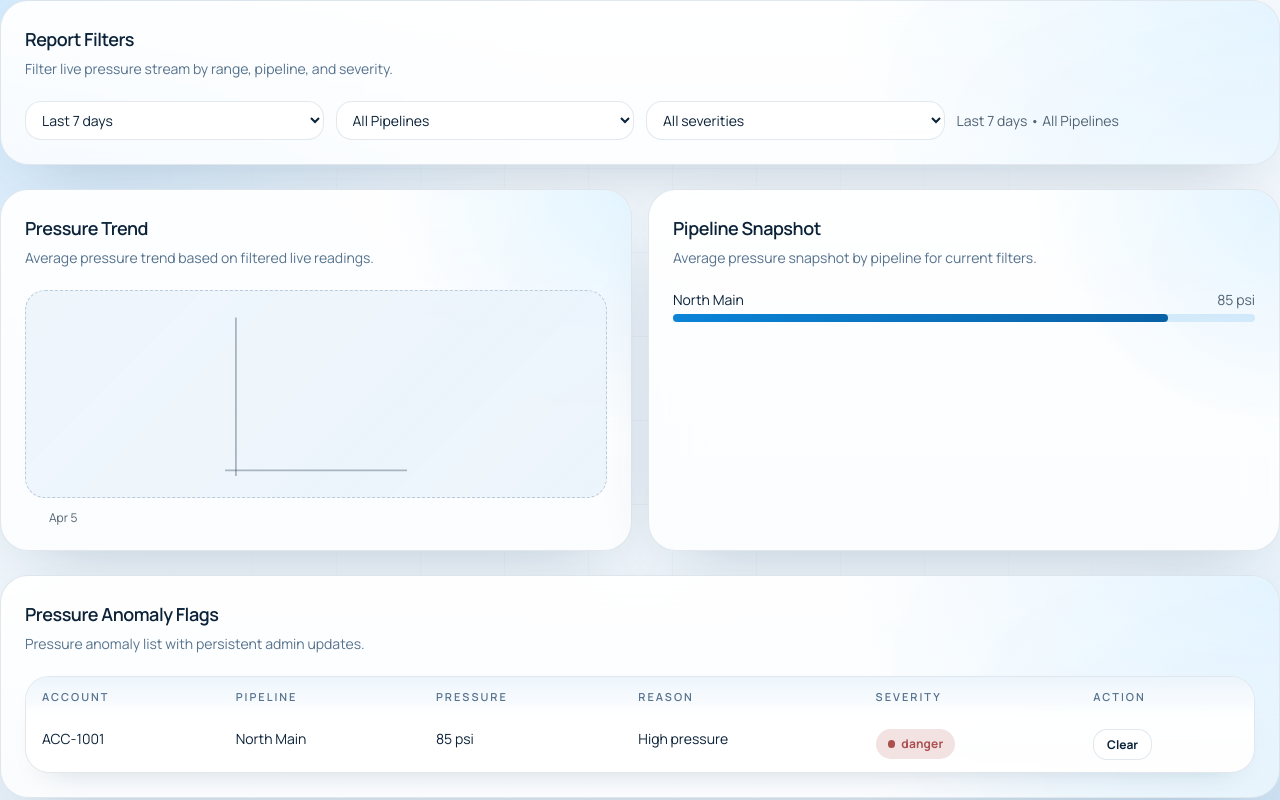
Scenario: ReportsDashboardClient › persists anomaly toggle through admin API
The width and height of the screenshot is (1280, 800).
Click the button "Clear" at (1123, 744), box top-left (1093, 729), bottom-right (1152, 760)
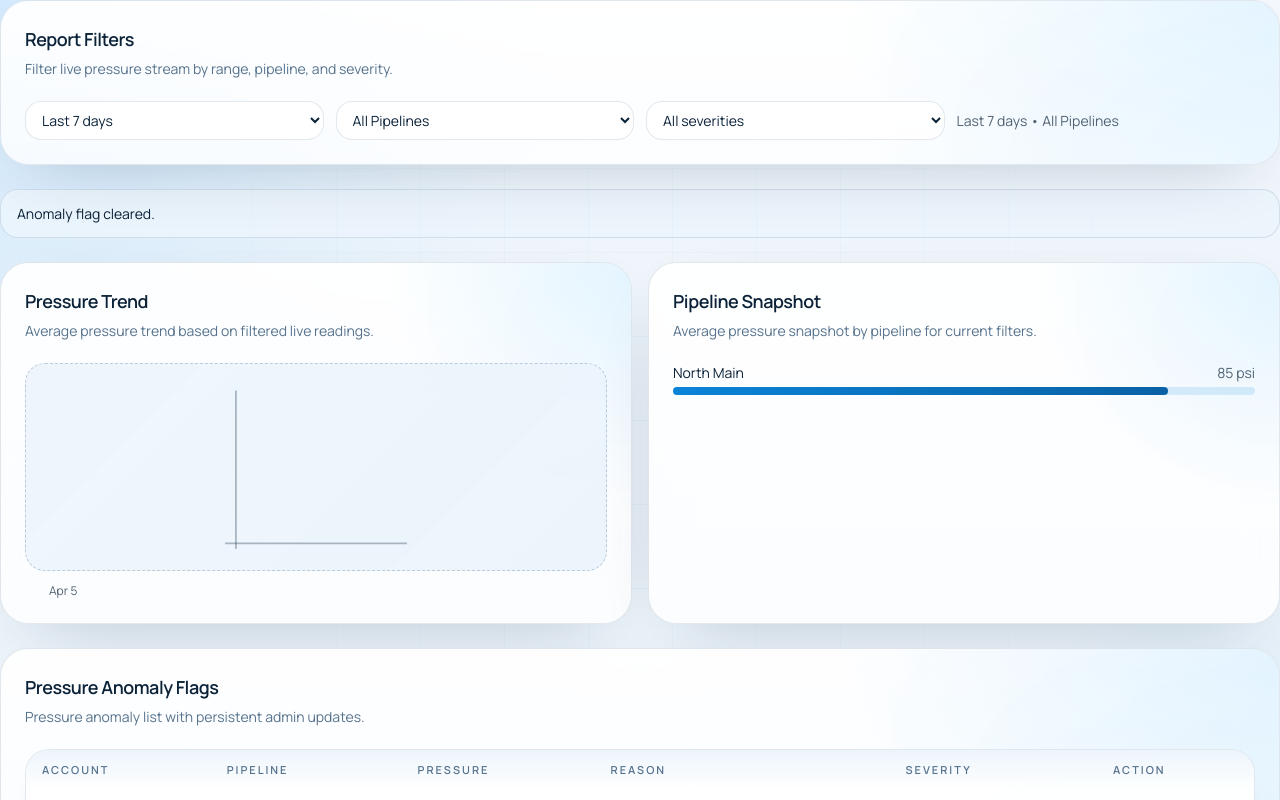
Now the text "Anomaly flag cleared." is shown, box top-left (0, 189), bottom-right (1279, 238)
